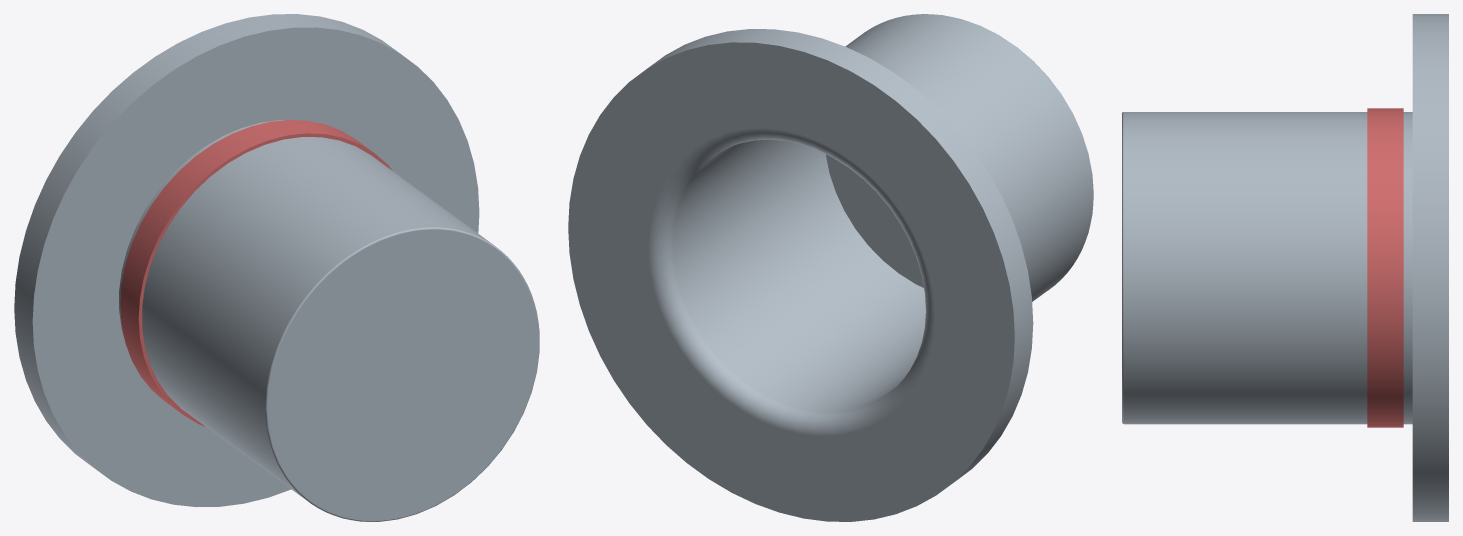
Rendered from TopHat.glb.
The picture shows the model from 3 angles, left to right: view 1: azimuth 30°, elevation 25°; view 2: azimuth 150°, elevation 25°; view 3: azimuth 270°, elevation 25°; orthographic projection.
Size of the model in its own units: 35.56 by 35.51 by 22.86.
